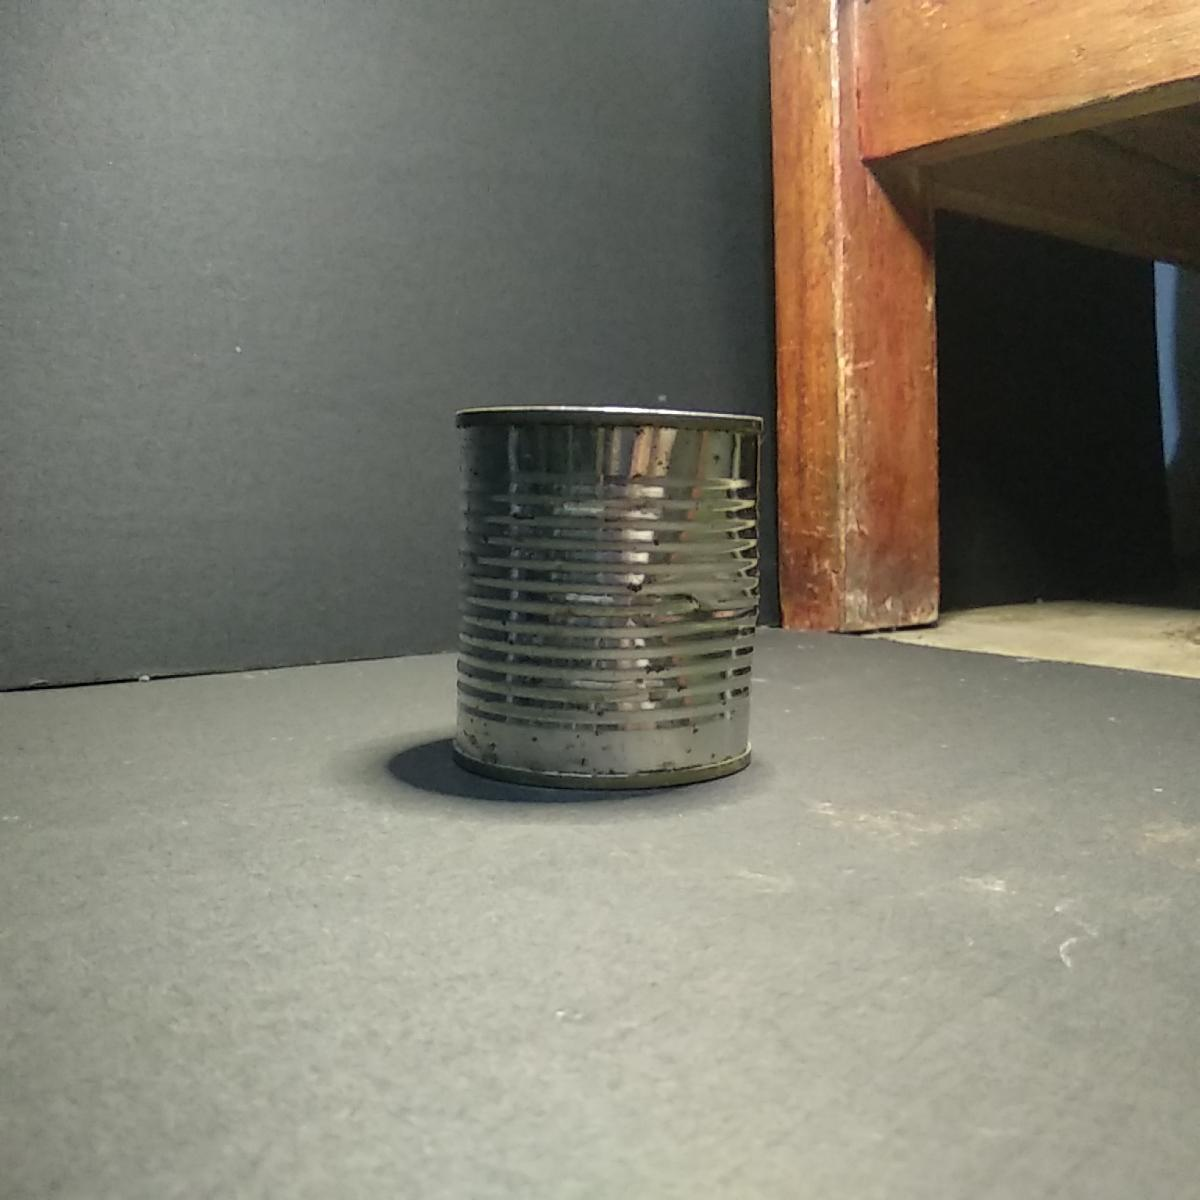Dented: (440, 386, 768, 805)
